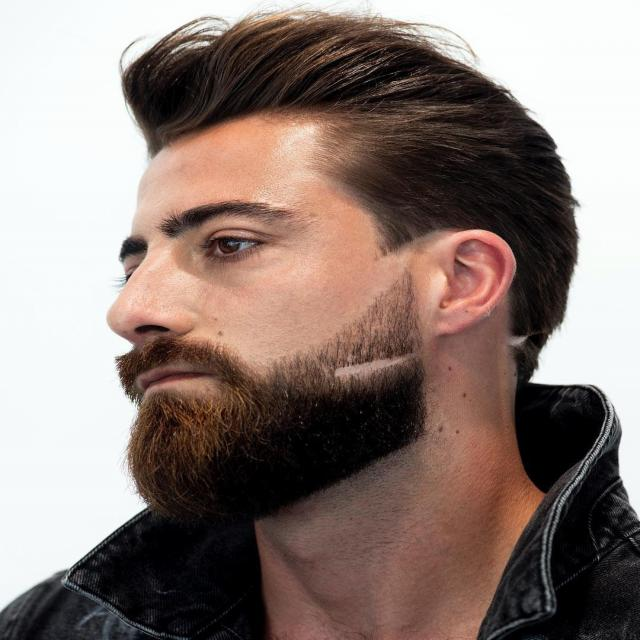beard: (121, 272, 445, 514)
hair: (135, 14, 581, 336)
